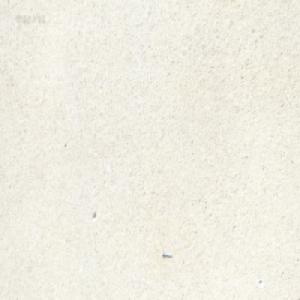Nail: (161, 250, 172, 258)
